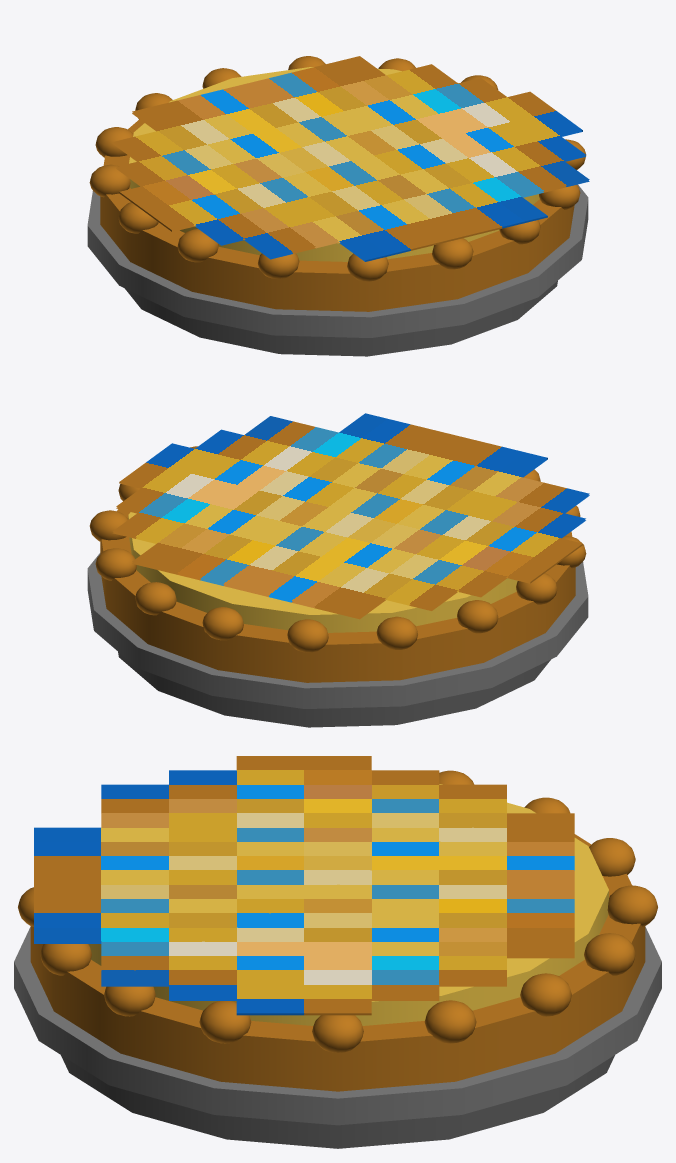
Rendered from CMU3DBakedPieFrosty.glb.
The picture shows the model from 3 angles, top to bottom: view 1: azimuth 30°, elevation 25°; view 2: azimuth 150°, elevation 25°; view 3: azimuth 270°, elevation 25°; orthographic projection. The views are drawn at different scales.
Parts seen in each view (by area): view 1: original pastry lattice and filling, solid pastry shell, rolled pan lip, metal pie pan, baked filling, crimped crust edge 10, crimped crust edge 13, crimped crust edge 8, crimped crust edge 12, crimped crust edge 11, crimped crust edge 9, crimped crust edge 7 (+2 smaller); view 2: original pastry lattice and filling, solid pastry shell, rolled pan lip, baked filling, metal pie pan, crimped crust edge 6, crimped crust edge 7, crimped crust edge 5, crimped crust edge 8, crimped crust edge 4, crimped crust edge 3, crimped crust edge 9 (+1 smaller); view 3: original pastry lattice and filling, solid pastry shell, rolled pan lip, metal pie pan, baked filling, crimped crust edge 2, crimped crust edge 3, crimped crust edge 4, crimped crust edge 16, crimped crust edge 5, crimped crust edge 1, crimped crust edge 6 (+2 smaller).
Part boxes in pixels (x1,y1,x2,y2): original pastry lattice and filling: (112, 56, 589, 261); solid pastry shell: (100, 119, 574, 311); rolled pan lip: (87, 184, 588, 337); metal pie pan: (125, 281, 557, 356); baked filling: (129, 67, 539, 261); crimped crust edge 10: (177, 229, 218, 262); crimped crust edge 13: (432, 238, 473, 269); crimped crust edge 8: (89, 164, 130, 197); crimped crust edge 12: (347, 253, 388, 281); crimped crust edge 11: (258, 253, 299, 278); crimped crust edge 9: (118, 202, 158, 233); crimped crust edge 7: (95, 127, 133, 157); original pastry lattice and filling: (112, 413, 589, 619); solid pastry shell: (100, 509, 575, 682); rolled pan lip: (87, 553, 588, 708); baked filling: (128, 512, 517, 632); metal pie pan: (118, 652, 550, 727); crimped crust edge 6: (287, 619, 328, 652); crimped crust edge 7: (376, 616, 417, 649); crimped crust edge 5: (202, 607, 243, 640); crimped crust edge 8: (457, 600, 498, 633); crimped crust edge 4: (135, 582, 176, 615); crimped crust edge 3: (95, 548, 136, 580); crimped crust edge 9: (516, 573, 557, 604); original pastry lattice and filling: (34, 756, 574, 1015); solid pastry shell: (30, 834, 645, 1091); rolled pan lip: (14, 927, 661, 1125); metal pie pan: (61, 1055, 614, 1148); baked filling: (88, 784, 608, 1025); crimped crust edge 2: (424, 1000, 476, 1043); crimped crust edge 3: (520, 973, 571, 1016); crimped crust edge 4: (584, 933, 635, 975); crimped crust edge 16: (199, 1001, 251, 1043); crimped crust edge 5: (607, 885, 657, 926); crimped crust edge 1: (312, 1015, 363, 1052); crimped crust edge 6: (589, 838, 635, 876).
Bounding box in the file's own units: 0.5488 × 0.132 × 0.5488.
5 materials, 1 textured.
